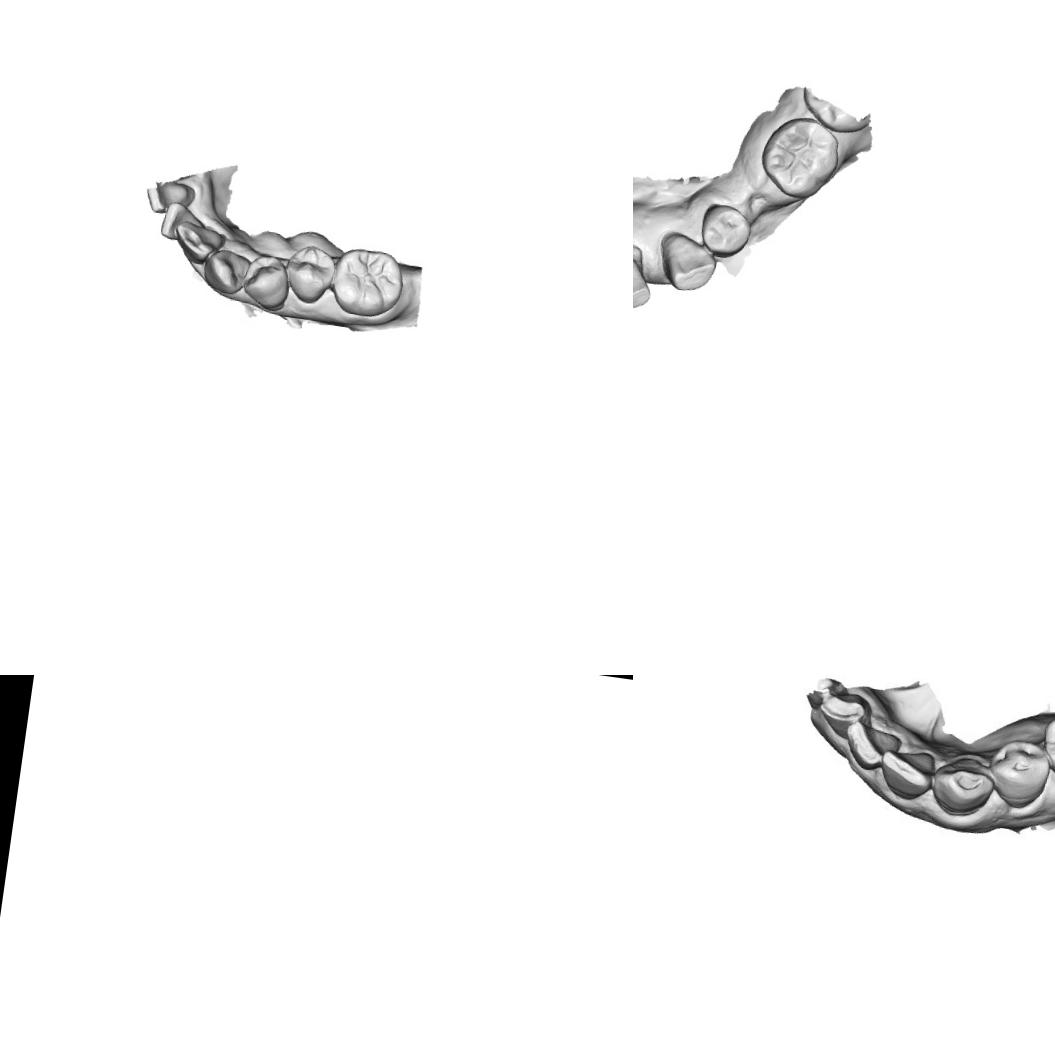canine: (930, 753, 1000, 823), (654, 228, 722, 296), (199, 245, 253, 300)
incisor: (878, 742, 944, 802), (846, 717, 902, 771), (170, 218, 228, 268), (822, 683, 872, 737), (158, 199, 210, 244), (143, 176, 198, 218), (633, 254, 656, 316)
molar: (755, 110, 845, 205), (328, 244, 412, 322)
premolar: (988, 740, 1053, 808), (279, 240, 338, 307), (695, 200, 754, 261), (238, 251, 292, 311)
